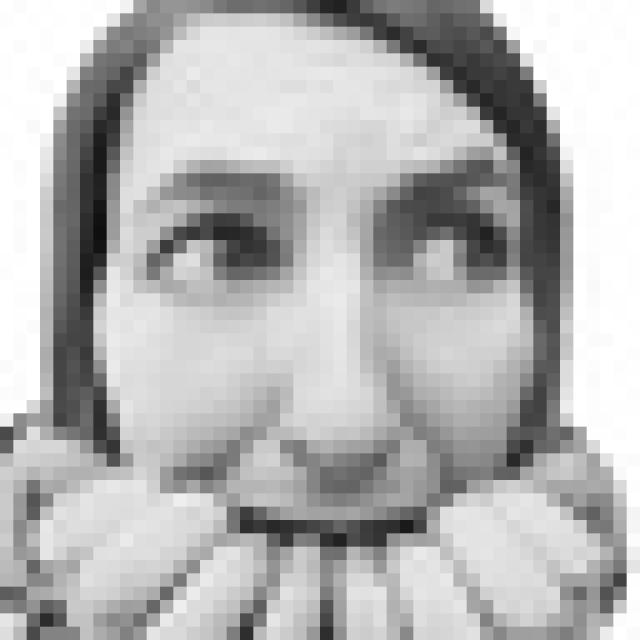fear: (124, 152, 526, 578)
